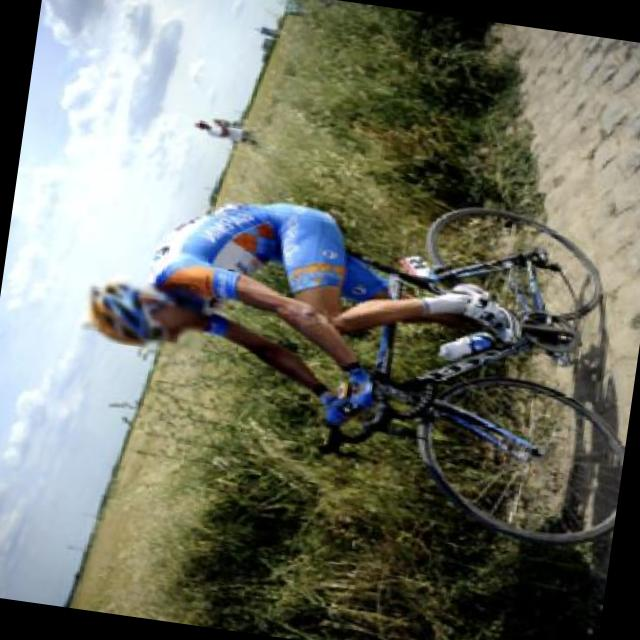With Helmet: (78, 274, 210, 356)
